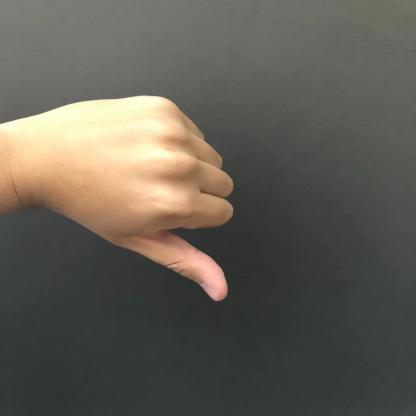Thumbs-Down: (46, 84, 280, 314)
